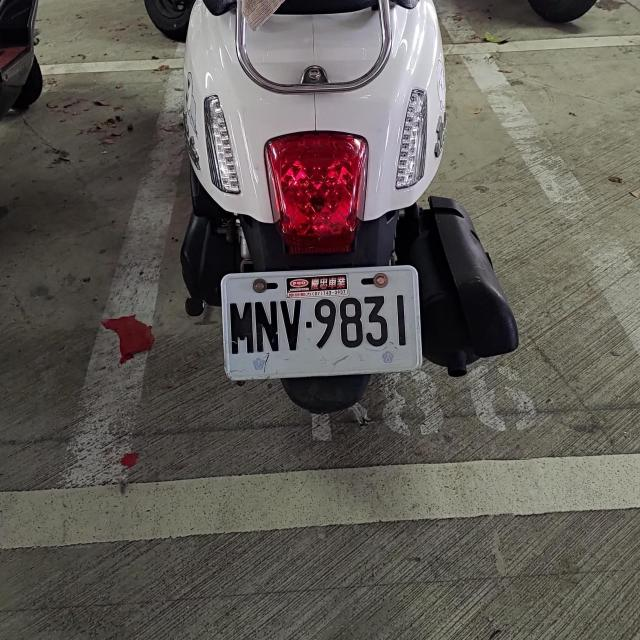W: (220, 266, 422, 378)
